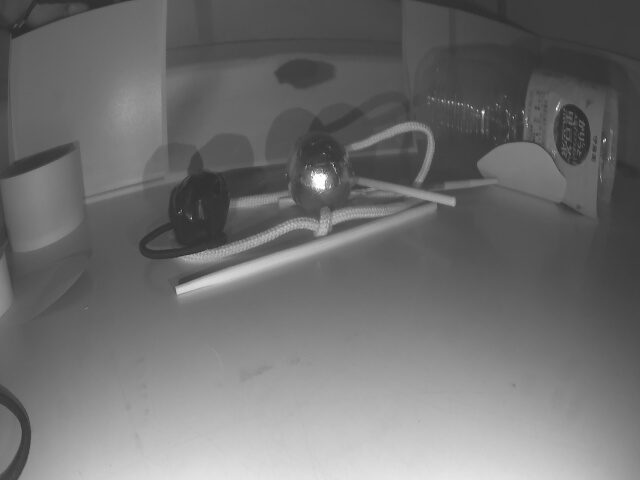Dead: (168, 168, 228, 244)
Live: (287, 134, 352, 217)
